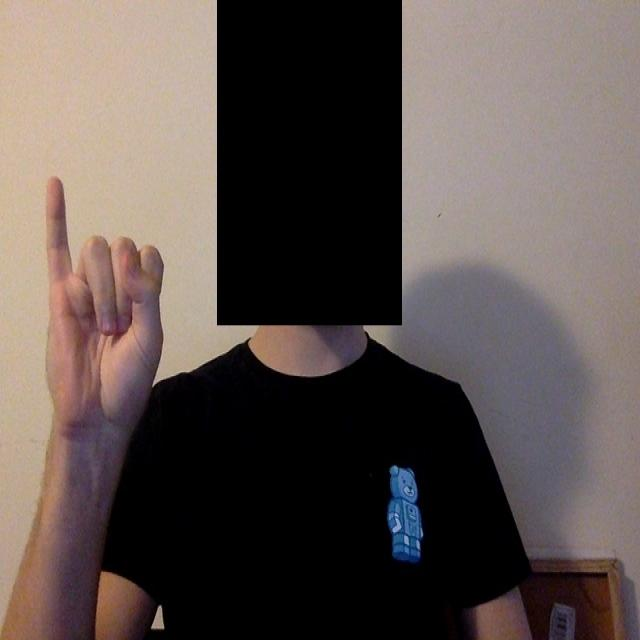I: (16, 158, 211, 464)
